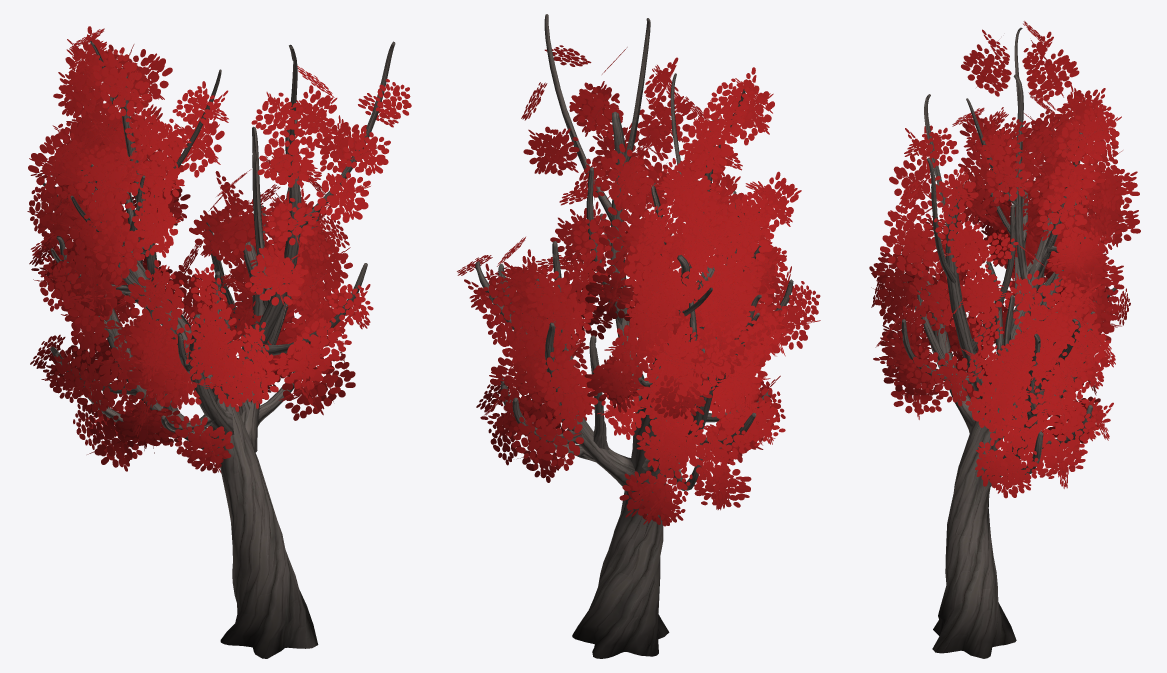
File: twistedtree_2_lod1.glb
3 views of the same model, side by side, from view 1: azimuth 30°, elevation 25°; view 2: azimuth 150°, elevation 25°; view 3: azimuth 270°, elevation 25° (orthographic). The views are drawn at different scales.
Visible parts, largest first — view 1: TwistedTree_2; view 2: TwistedTree_2; view 3: TwistedTree_2.
Part boxes in pixels (bbox=[...]): TwistedTree_2: bbox=[27, 26, 411, 658]; TwistedTree_2: bbox=[457, 14, 820, 658]; TwistedTree_2: bbox=[869, 21, 1140, 658].
Bounding box in the file's own units: 10.17 × 18.26 × 8.62.
2 materials, 2 textured.
